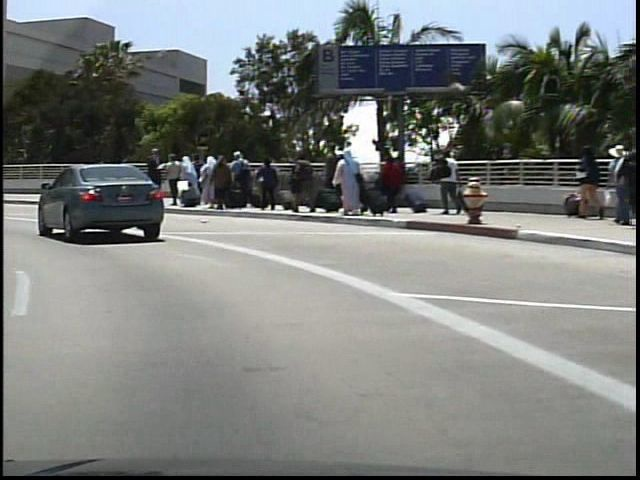person: (431, 145, 460, 219), (91, 150, 120, 212), (139, 145, 164, 210), (160, 151, 180, 210), (103, 154, 122, 196)
